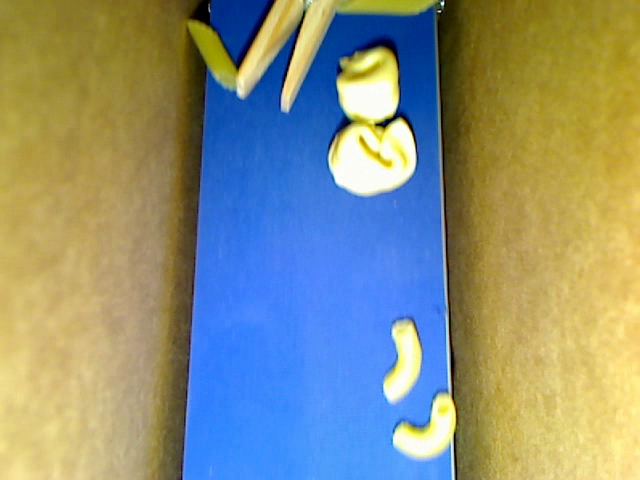elbow: (392, 392, 455, 462), (380, 318, 422, 404)
penne: (186, 19, 239, 91), (336, 1, 439, 17)
tortellini: (325, 118, 416, 197), (336, 47, 401, 124)
